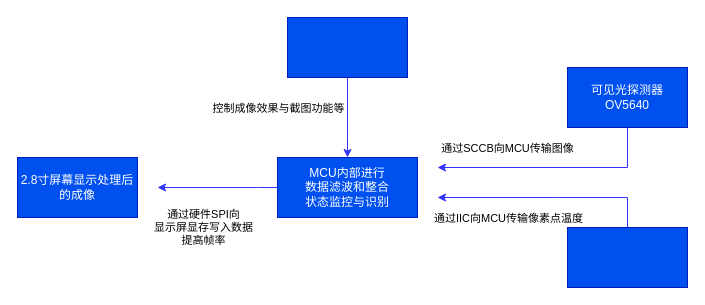
This 705x305 diagram has some shape labels left out. Here are the shapes that lost their labels. From the top down, the centre of each, then its label:
point (347, 47): 用户交互界面
point (627, 257): 红外传感器MLX90640
